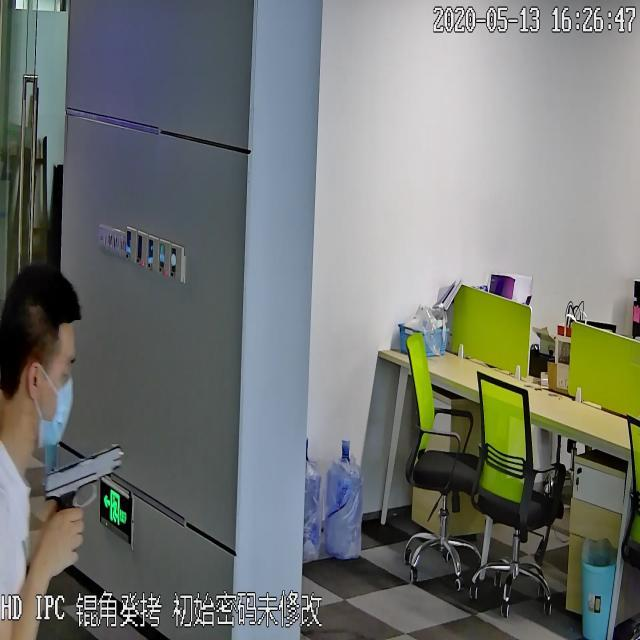gun: (39, 443, 125, 570)
